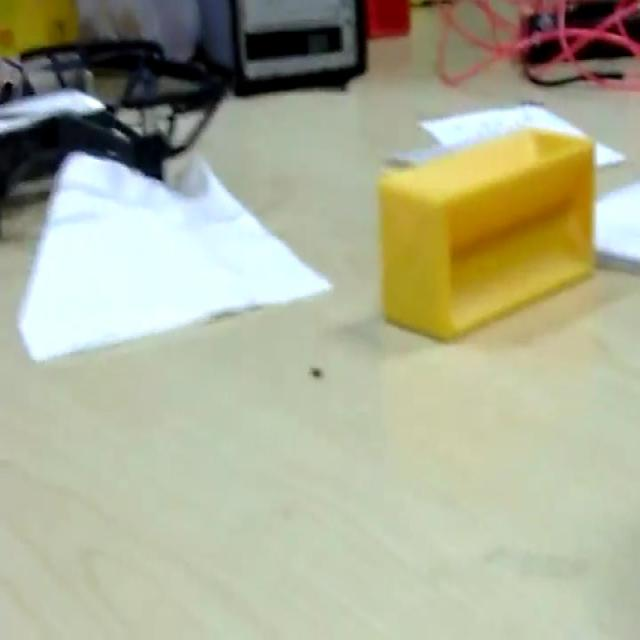yellow_block: (376, 124, 596, 341)
